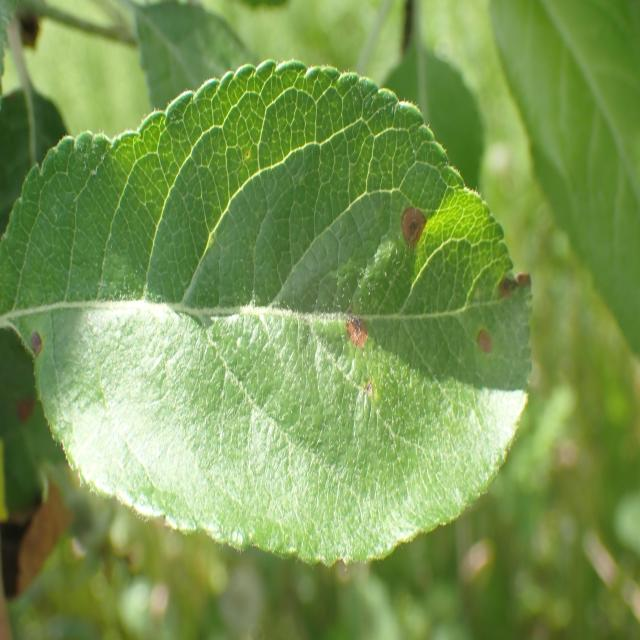Black Rot: (363, 172, 446, 274), (326, 292, 392, 384), (455, 314, 510, 386), (18, 310, 62, 376)
